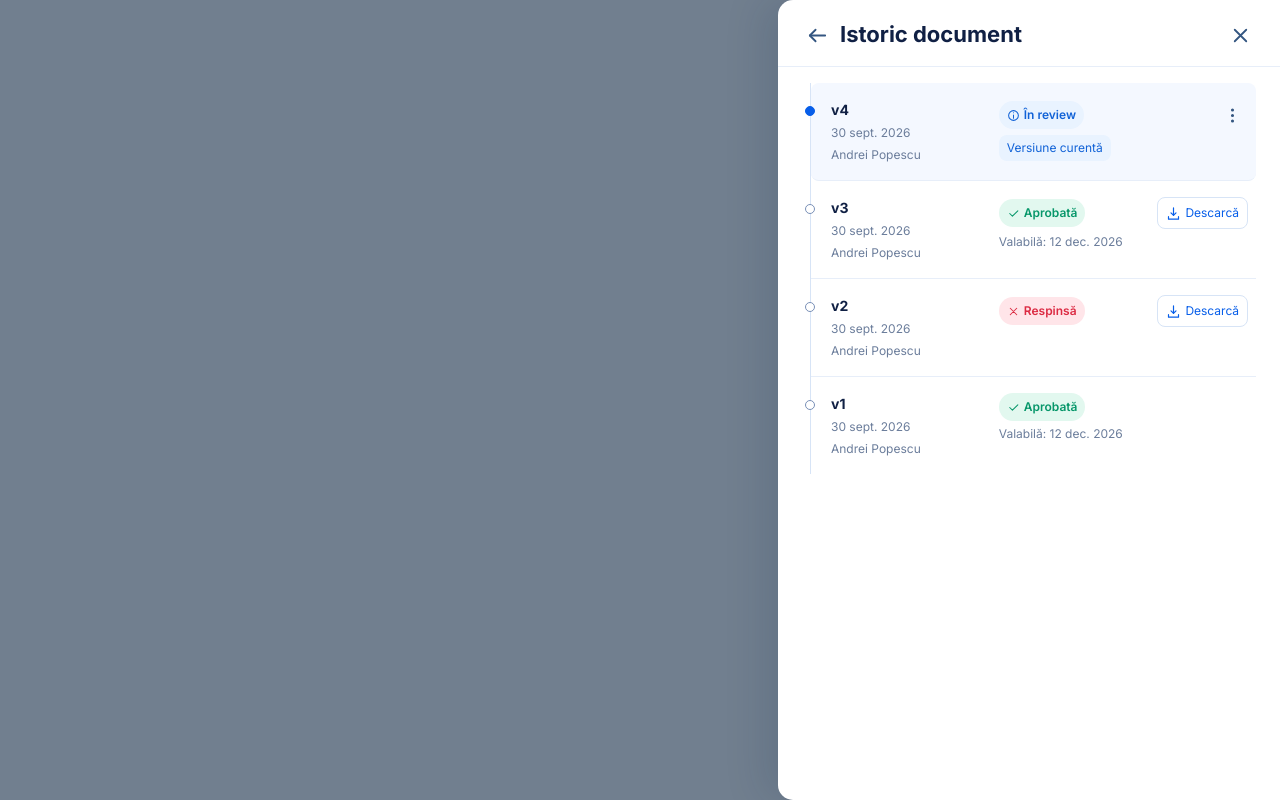
Test: canonical document details and internal drawer navigation › reports an unavailable/stale historical file safely and clears feedback on a successful retry (EN=false)
Click the button "Descarcă" next to "Respinsă" at (1203, 311), box 1157,295 -> 1248,327
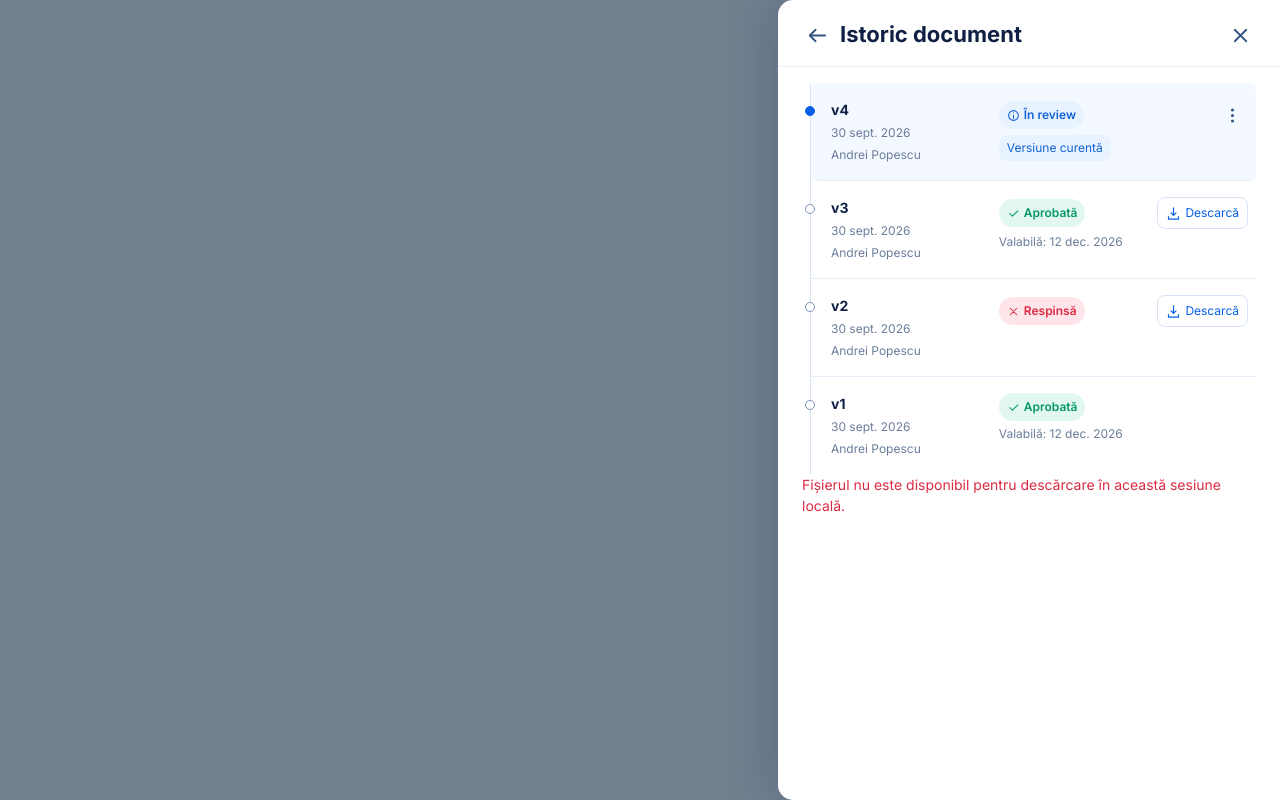
Expected: the number of list items is 4, 811,83 -> 1256,181; 811,181 -> 1256,279; 811,279 -> 1256,377; 831,393 -> 1123,456
Now the message reads "Fișierul nu este disponibil pentru descărcare în această sesiune locală.", box 802,476 -> 1221,514
Click the button "Descarcă" next to "Respinsă" at (1203, 311), box 1157,295 -> 1248,327
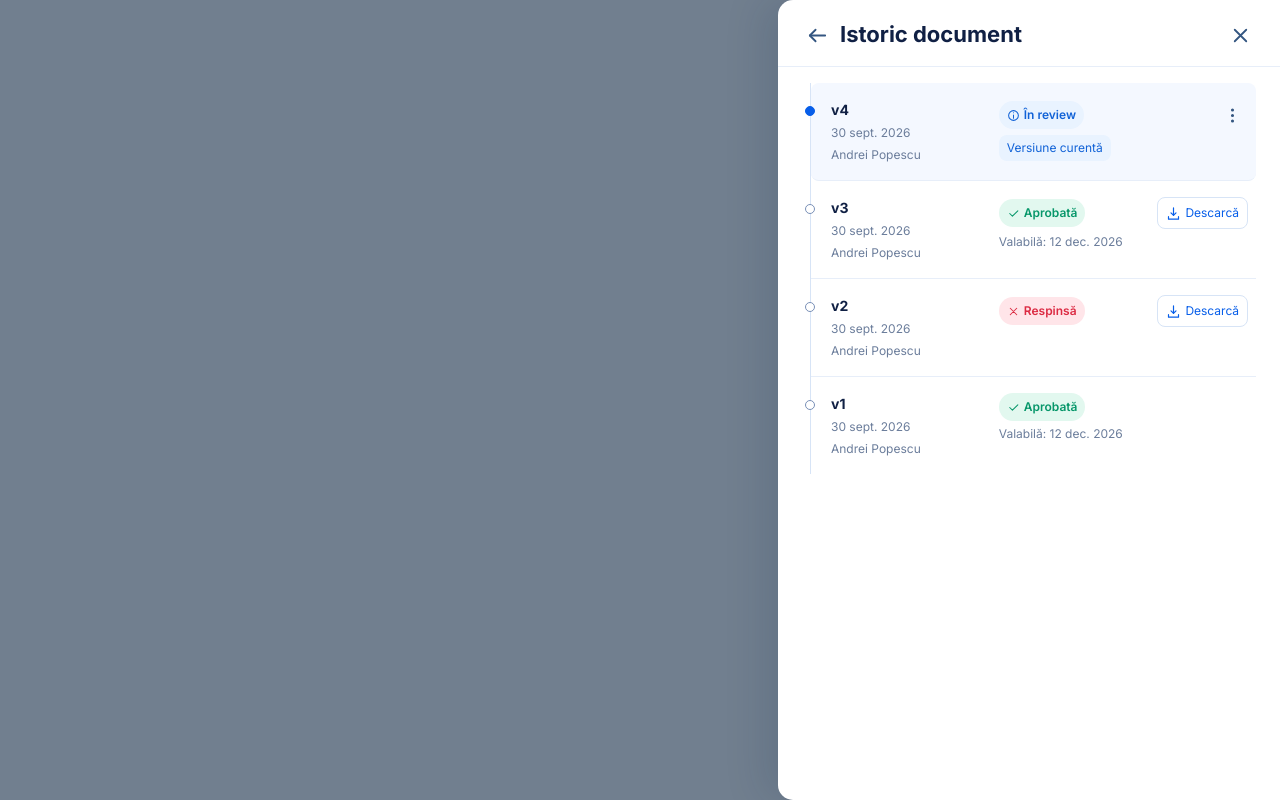
Now the message "Fișierul nu este disponibil pentru descărcare în această sesiune locală." is gone
